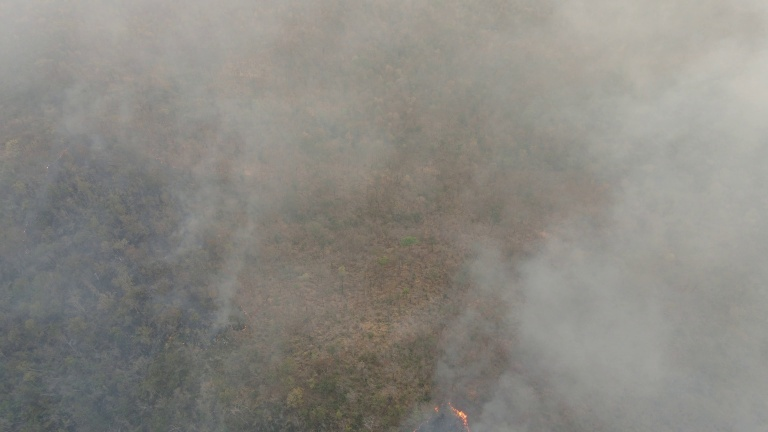fire: (419, 397, 477, 432)
smoke: (436, 3, 768, 432), (2, 1, 471, 247)
